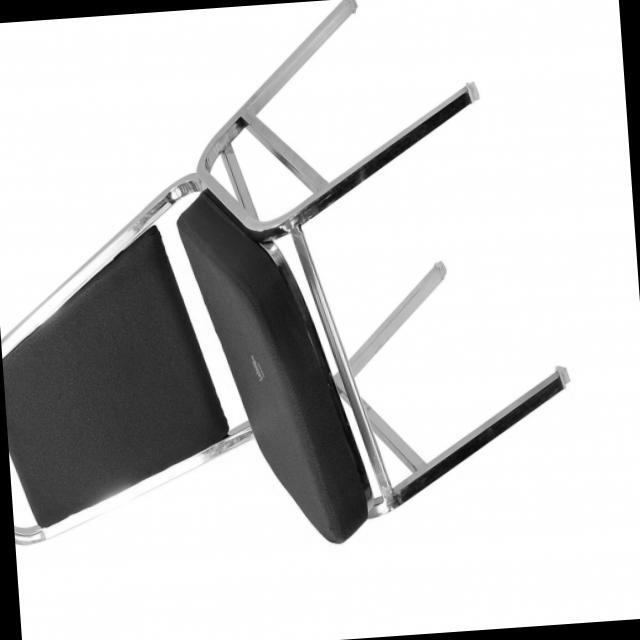chair: (0, 0, 579, 568)
